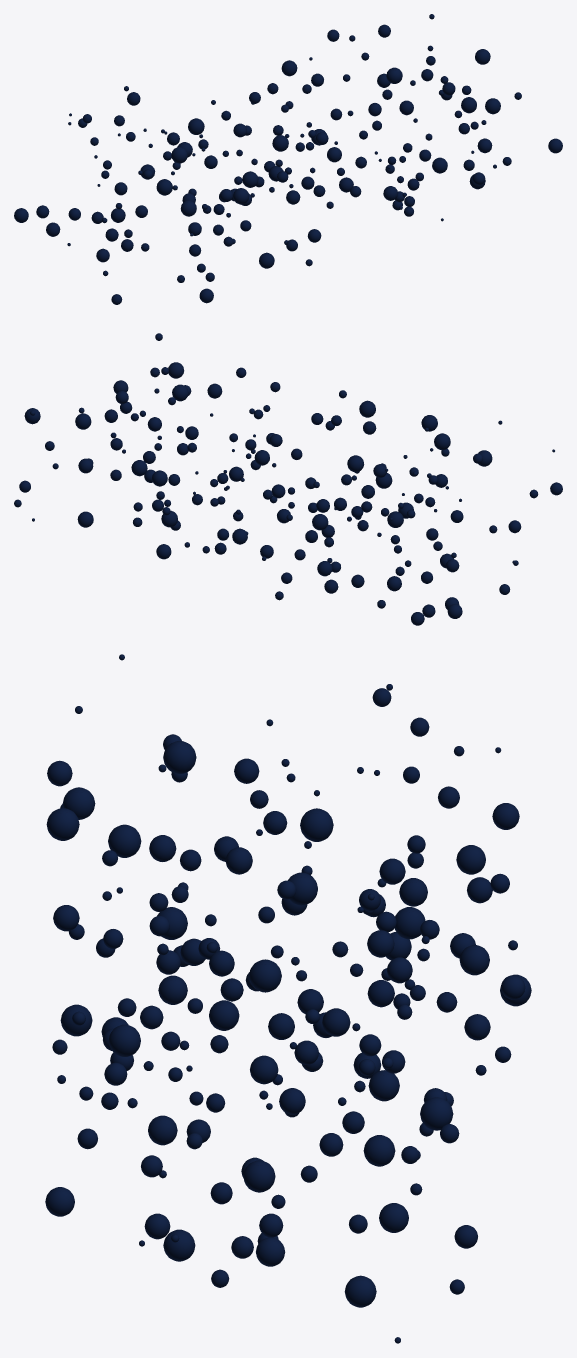
The model's file is Asteroid.gltf.
The picture shows the model from 3 angles, top to bottom: view 1: azimuth 30°, elevation 25°; view 2: azimuth 150°, elevation 25°; view 3: azimuth 270°, elevation 25°; orthographic projection. The views are drawn at different scales.
Visible parts, largest first — view 1: no part large enough to name; view 2: no part large enough to name; view 3: Sphere 124, Sphere 38, Sphere 40, Sphere 142, Sphere 27, Sphere 152, Sphere 47, Sphere 131.
Part boxes in pixels (<box>): Sphere 124: <box>300,808,333,841</box>; Sphere 38: <box>163,741,196,773</box>; Sphere 40: <box>108,824,141,857</box>; Sphere 142: <box>249,959,281,992</box>; Sphere 27: <box>46,808,79,840</box>; Sphere 152: <box>420,1097,453,1130</box>; Sphere 47: <box>108,1024,140,1056</box>; Sphere 131: <box>243,1160,275,1192</box>.
Size of the model in its own units: 2127 by 733 by 982.
Materials: 2 (1 with a texture image).
